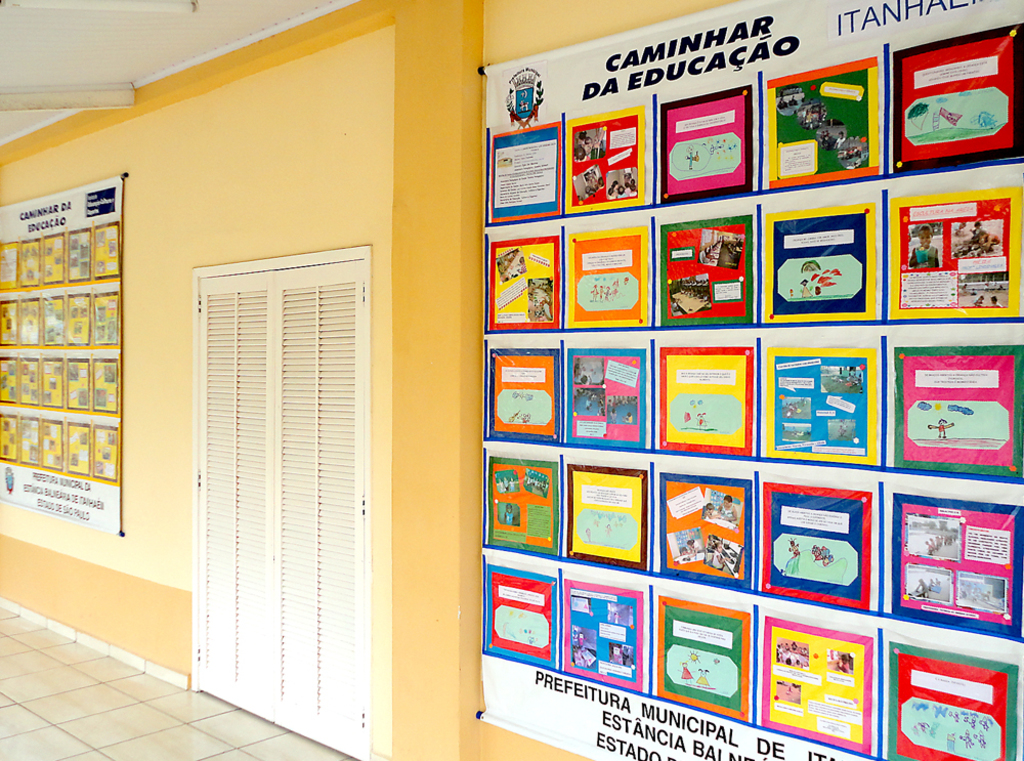Door: (189, 251, 364, 760)
